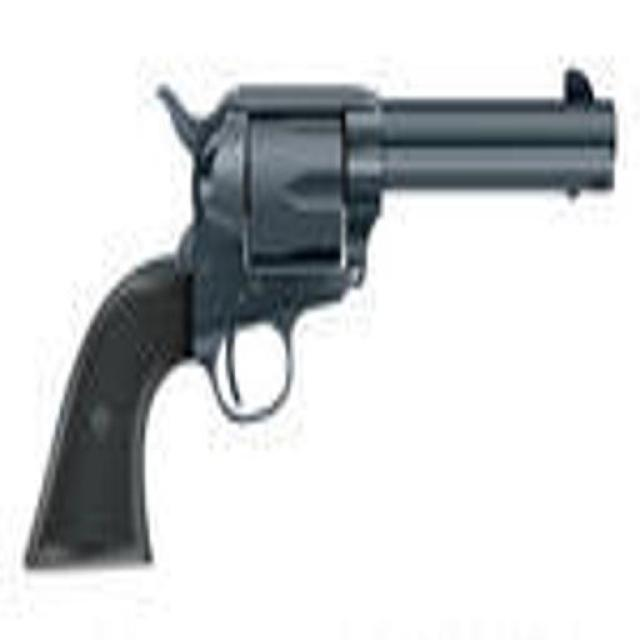pistol: (21, 63, 613, 569)
